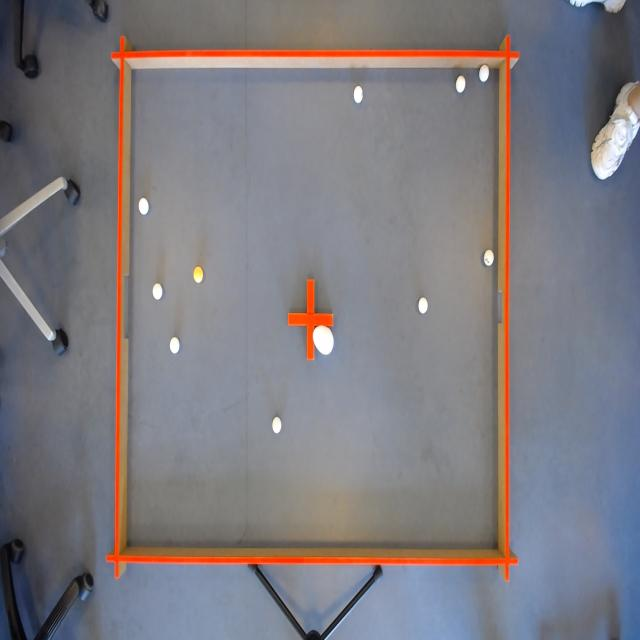cross: (287, 277, 334, 363)
egg: (311, 321, 336, 359)
orange_ball: (192, 264, 205, 285)
white_ball: (150, 280, 164, 304), (482, 245, 496, 269), (136, 196, 150, 219), (168, 335, 181, 359), (270, 413, 282, 436), (478, 62, 491, 83), (454, 74, 466, 95), (352, 84, 364, 105), (418, 295, 429, 317)
